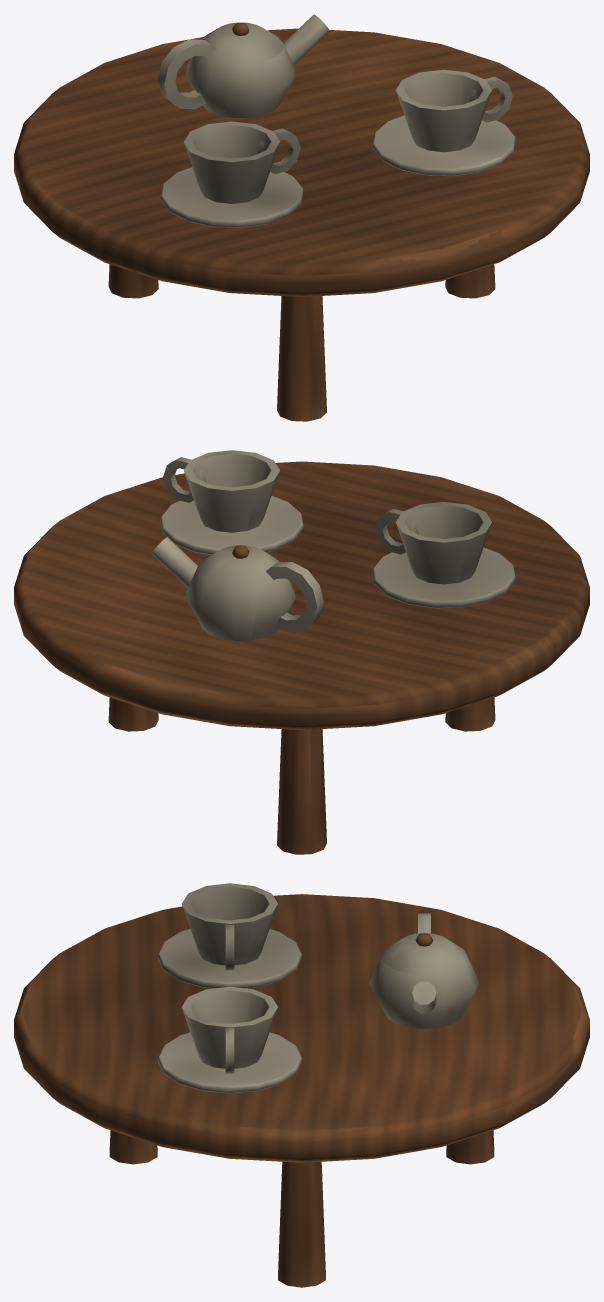
File: Furn_Moment_LowTeaTable.fbx
3 views of the same model, one above another, from view 1: azimuth 30°, elevation 25°; view 2: azimuth 150°, elevation 25°; view 3: azimuth 270°, elevation 25° (orthographic).
Visible parts, largest first — view 1: Furn_Moment_LowTeaTable; view 2: Furn_Moment_LowTeaTable; view 3: Furn_Moment_LowTeaTable.
Boxes of the visible parts, <box> form: Furn_Moment_LowTeaTable: <box>14,14,589,421</box>; Furn_Moment_LowTeaTable: <box>14,450,589,854</box>; Furn_Moment_LowTeaTable: <box>14,883,589,1287</box>.
Bounding box in the file's own units: 0.8 × 0.4 × 0.8.
2 materials, 2 textured.
